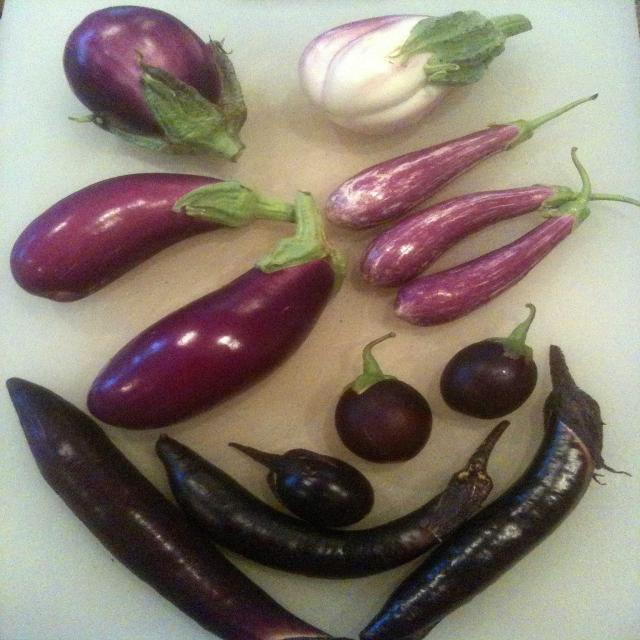Eggplant-r1Ob: (7, 378, 330, 640), (360, 345, 612, 640), (87, 191, 345, 429), (157, 421, 508, 579), (325, 95, 597, 229), (10, 174, 295, 301), (395, 148, 592, 326), (63, 6, 247, 161), (362, 185, 578, 286), (335, 332, 432, 462), (440, 304, 537, 419)
